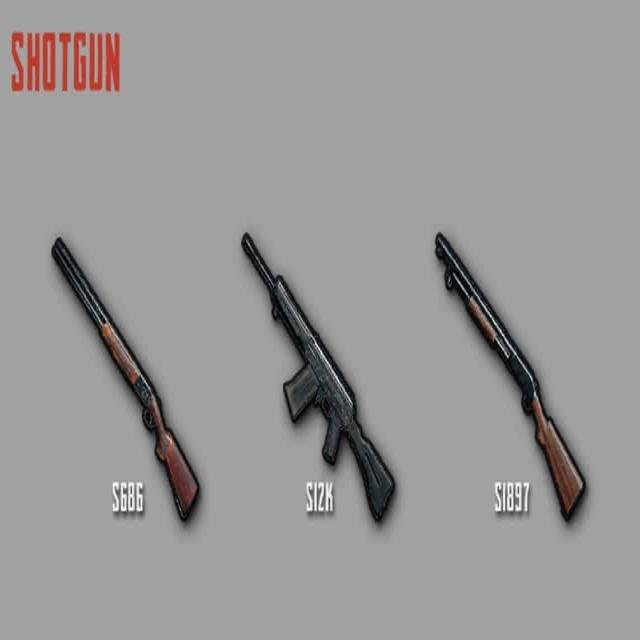weapon: (430, 220, 592, 543), (236, 229, 398, 542), (47, 230, 206, 538)
